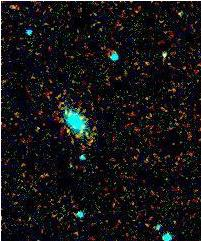star: (164, 0, 194, 28)
